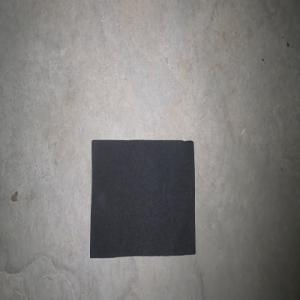PaintChip: (89, 138, 195, 258)
